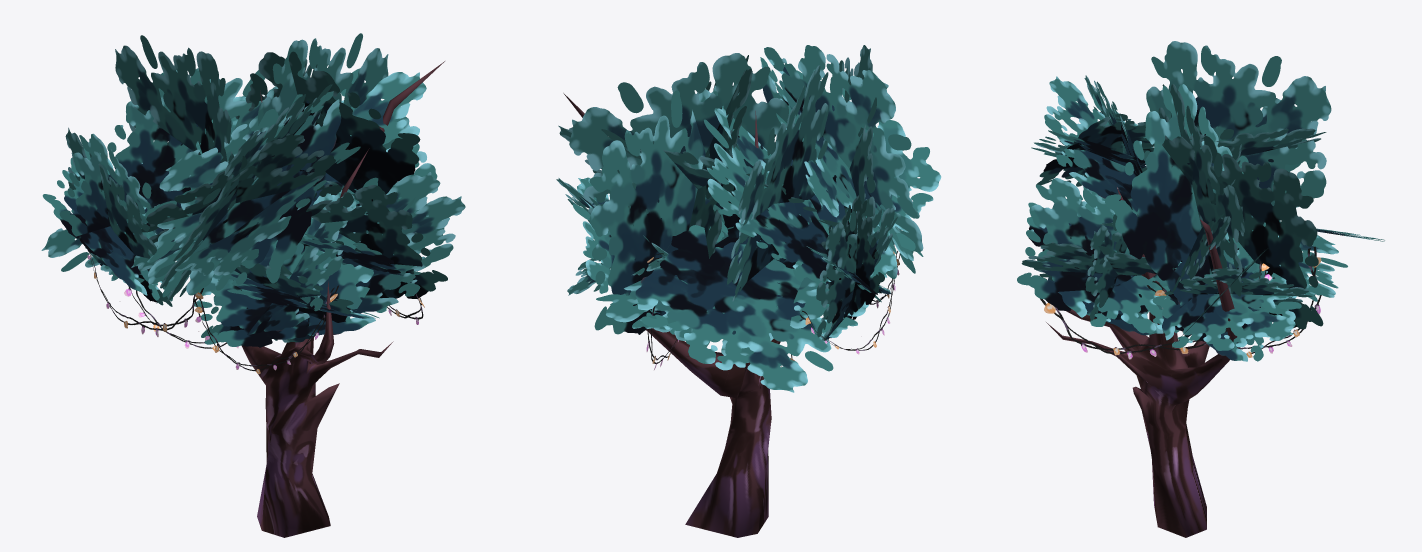
The model's file is tree 3.fbx.
3 views of the same model, side by side, from view 1: azimuth 30°, elevation 25°; view 2: azimuth 150°, elevation 25°; view 3: azimuth 270°, elevation 25° (orthographic). The views are drawn at different scales.
Visible parts, largest first — view 1: Plane.068; view 2: Plane.068; view 3: Plane.068.
Part boxes in pixels (x1=…): Plane.068: x1=41, y1=33, x2=465, y2=537; Plane.068: x1=556, y1=45, x2=941, y2=537; Plane.068: x1=1017, y1=41, x2=1384, y2=537.
Bounding box in the file's own units: 537 × 682 × 546.
